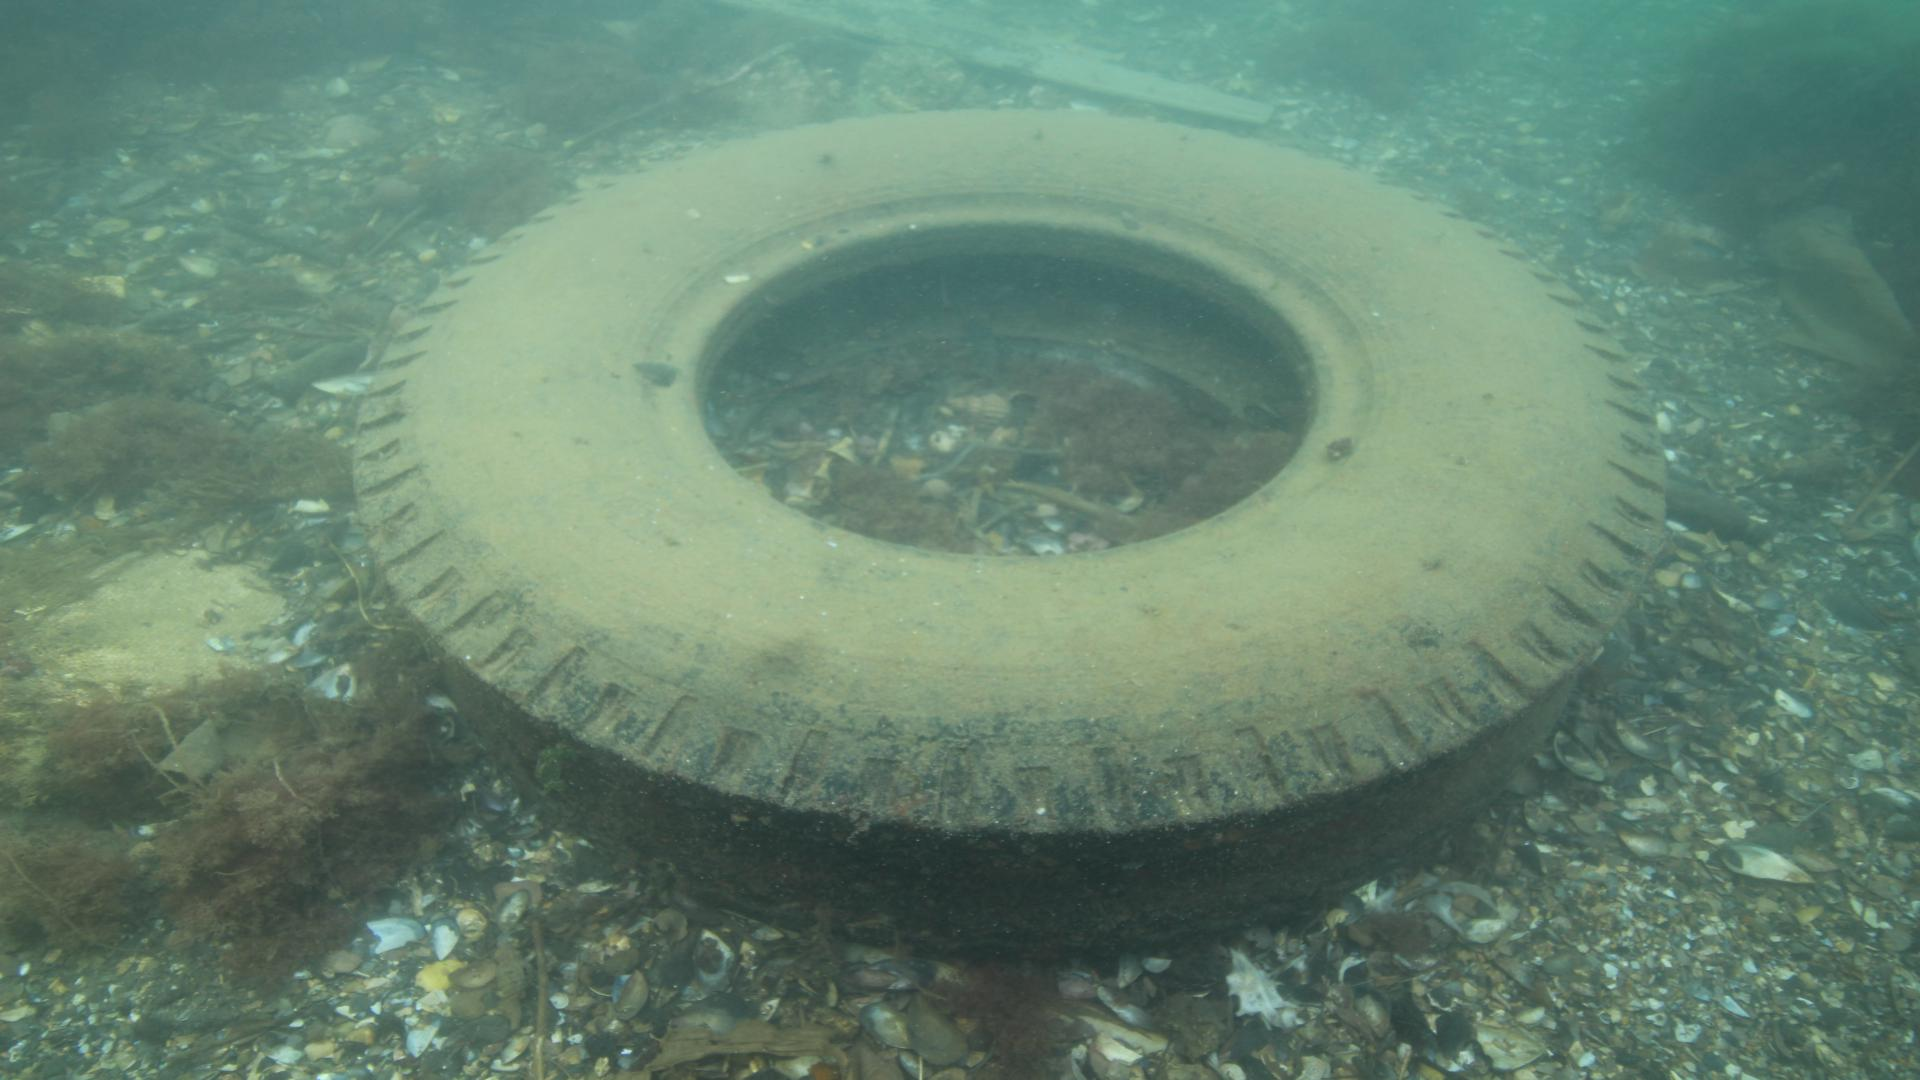tire: (345, 103, 1669, 971)
